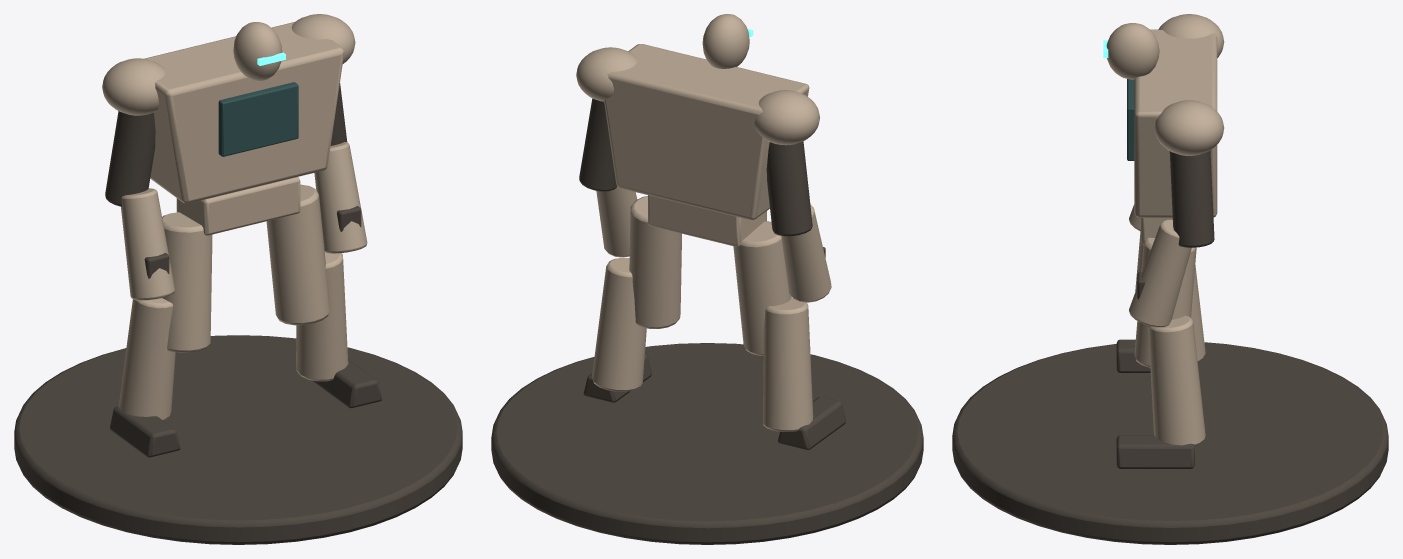
File: reliquary_frame_goliath.glb
3 views of the same model, side by side, from view 1: azimuth 30°, elevation 25°; view 2: azimuth 150°, elevation 25°; view 3: azimuth 270°, elevation 25° (orthographic). The views are drawn at different scales.
Visible parts, largest first — view 1: standin_base, t.011, standin_thigh_L, standin_thigh_R, standin_shin_R, tp, standin_forearm_R, standin_pelvis, standin_shin_L, standin_forearm_L, standin_arm_R, standin_pauldron_R (+5 smaller); view 2: standin_base, t.011, standin_shin_R, standin_thigh_L, standin_shin_L, standin_thigh_R, standin_arm_R, standin_pelvis, standin_forearm_R, standin_pauldron_R, standin_arm_L, h.011 (+4 smaller); view 3: standin_base, t.011, standin_shin_L, standin_forearm_L, standin_arm_L, standin_pauldron_L, h.011, standin_foot_L, standin_thigh_L, standin_pauldron_R, standin_foot_R, standin_shin_R (+1 smaller).
Part boxes in pixels (x1,y1,x2,y2): standin_base: [14, 335, 462, 544]; t.011: [144, 22, 344, 203]; standin_thigh_L: [266, 184, 330, 325]; standin_thigh_R: [162, 212, 212, 352]; standin_shin_R: [118, 298, 175, 420]; tp: [218, 82, 298, 156]; standin_forearm_R: [121, 188, 175, 300]; standin_pelvis: [176, 177, 300, 235]; standin_shin_L: [296, 252, 348, 381]; standin_forearm_L: [314, 142, 367, 253]; standin_arm_R: [105, 111, 155, 206]; standin_pauldron_R: [102, 58, 165, 115]; standin_base: [491, 343, 923, 544]; t.011: [604, 44, 809, 219]; standin_shin_R: [763, 298, 813, 431]; standin_thigh_L: [629, 196, 681, 328]; standin_shin_L: [592, 258, 646, 391]; standin_thigh_R: [733, 221, 791, 355]; standin_arm_R: [766, 141, 812, 236]; standin_pelvis: [648, 195, 766, 246]; standin_forearm_R: [781, 204, 831, 302]; standin_pauldron_R: [754, 90, 819, 145]; standin_arm_L: [579, 98, 617, 191]; h.011: [702, 14, 749, 68]; standin_base: [952, 342, 1388, 544]; t.011: [1134, 29, 1217, 217]; standin_shin_L: [1148, 315, 1205, 445]; standin_forearm_L: [1129, 219, 1191, 327]; standin_arm_L: [1169, 150, 1214, 247]; standin_pauldron_L: [1154, 100, 1224, 155]; h.011: [1106, 23, 1159, 79]; standin_foot_L: [1116, 435, 1194, 468]; standin_thigh_L: [1134, 237, 1196, 367]; standin_pauldron_R: [1158, 14, 1224, 57]; standin_foot_R: [1116, 339, 1150, 372]; standin_shin_R: [1191, 265, 1205, 362].
Bounding box in the file's own units: 50 × 54.42 × 50.
